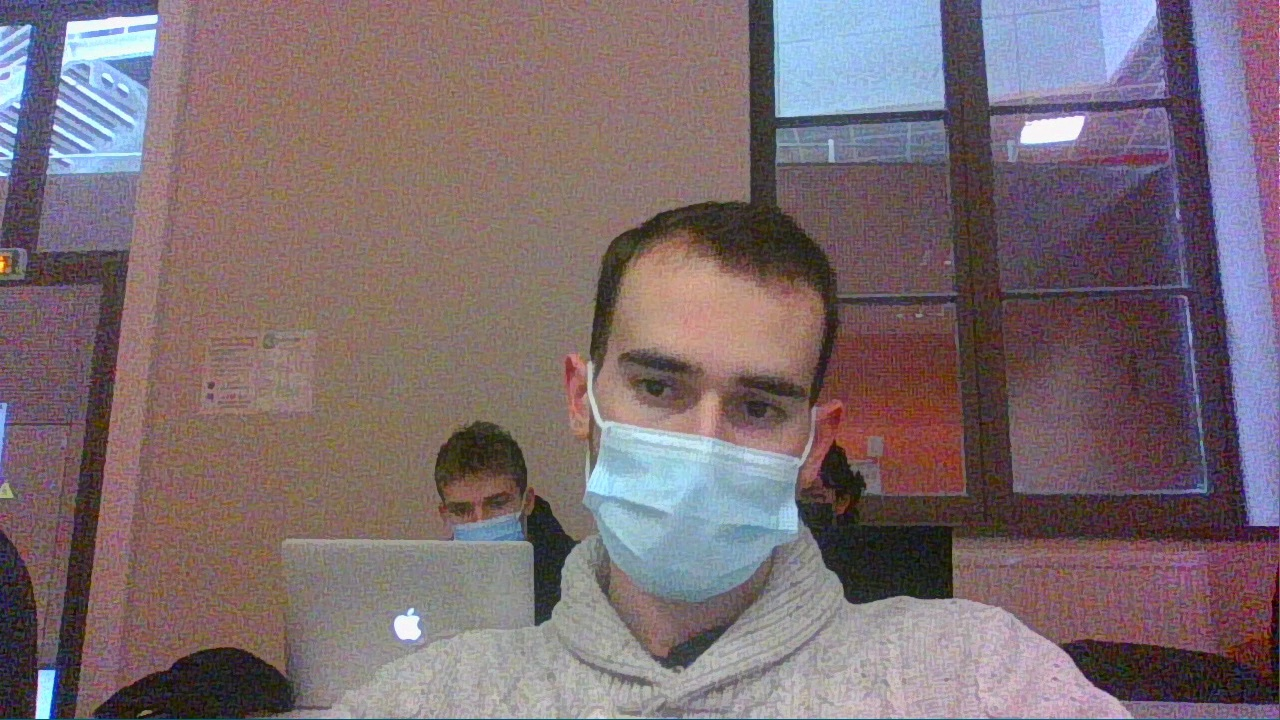mask: (556, 204, 822, 604), (432, 420, 524, 539)
